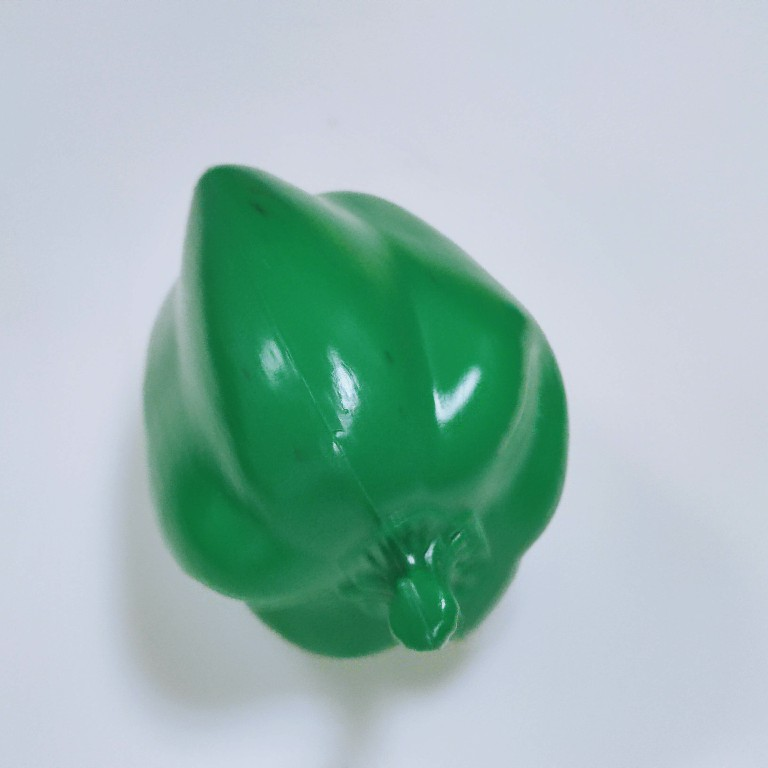fruit_pepper: (135, 161, 576, 665)
